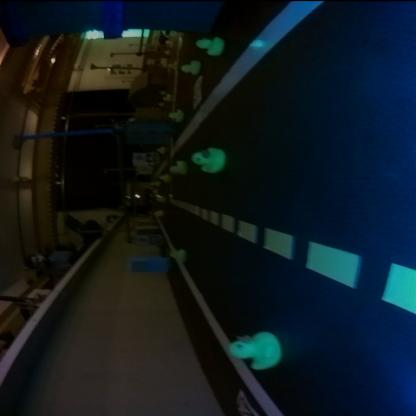Duckie: (229, 332, 279, 370), (192, 147, 223, 173), (196, 36, 222, 54), (171, 159, 187, 175), (171, 247, 188, 262), (181, 62, 199, 74), (167, 109, 183, 121)
QR code: (234, 391, 259, 415), (191, 76, 203, 104)
